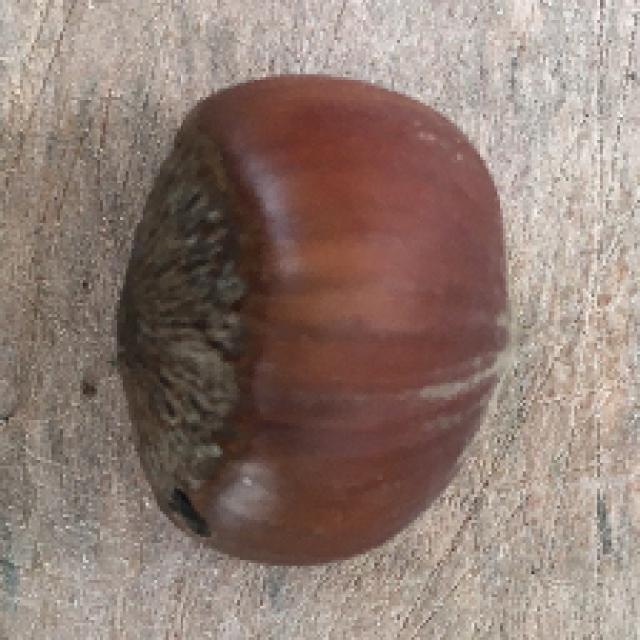damagedHazelnut: (100, 58, 512, 564)
